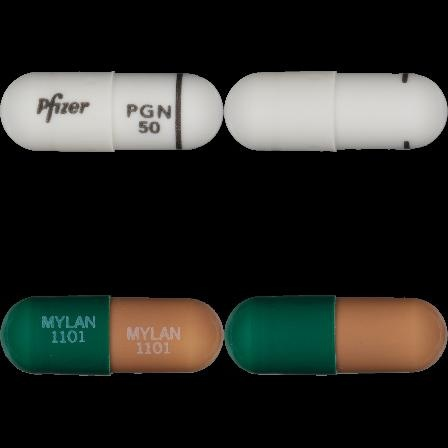24236-783: (0, 0, 224, 224)
